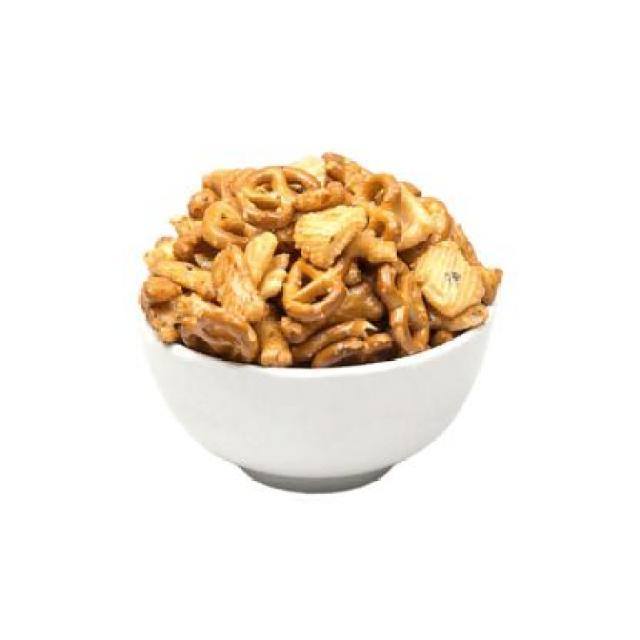Salatini packaged: (132, 154, 523, 366)
